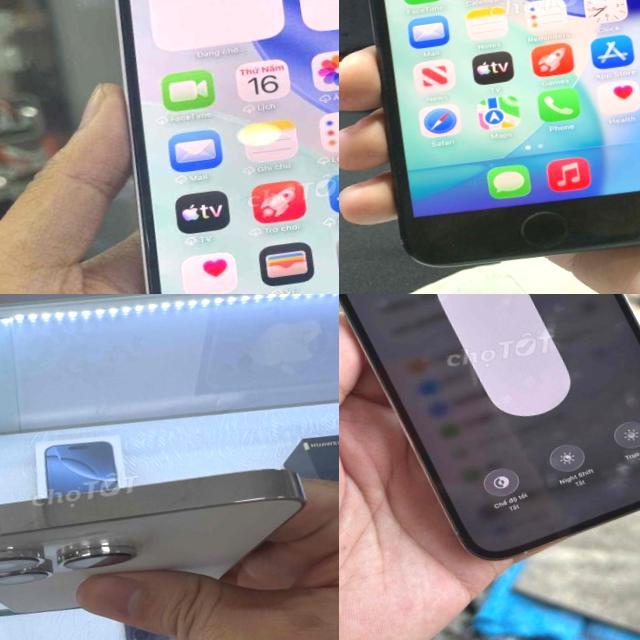gen_14: (339, 294, 640, 584), (69, 0, 339, 294), (0, 442, 339, 640)
gen_7_8: (339, 0, 640, 288)
